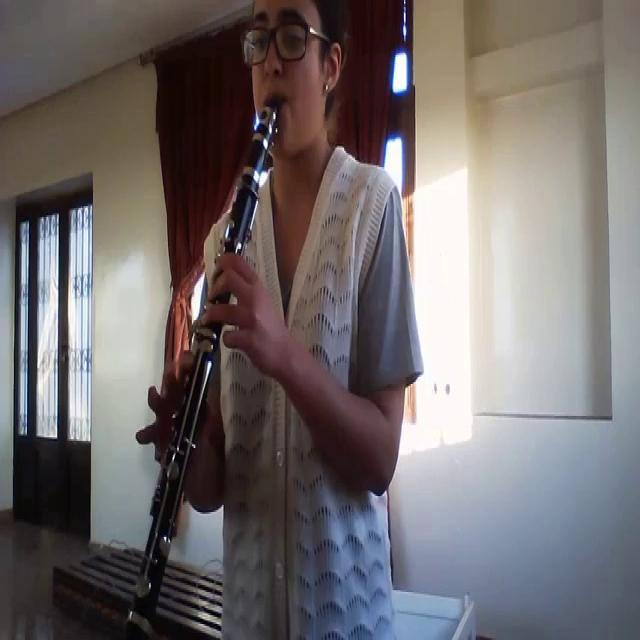Clarinet: (112, 84, 299, 639)
